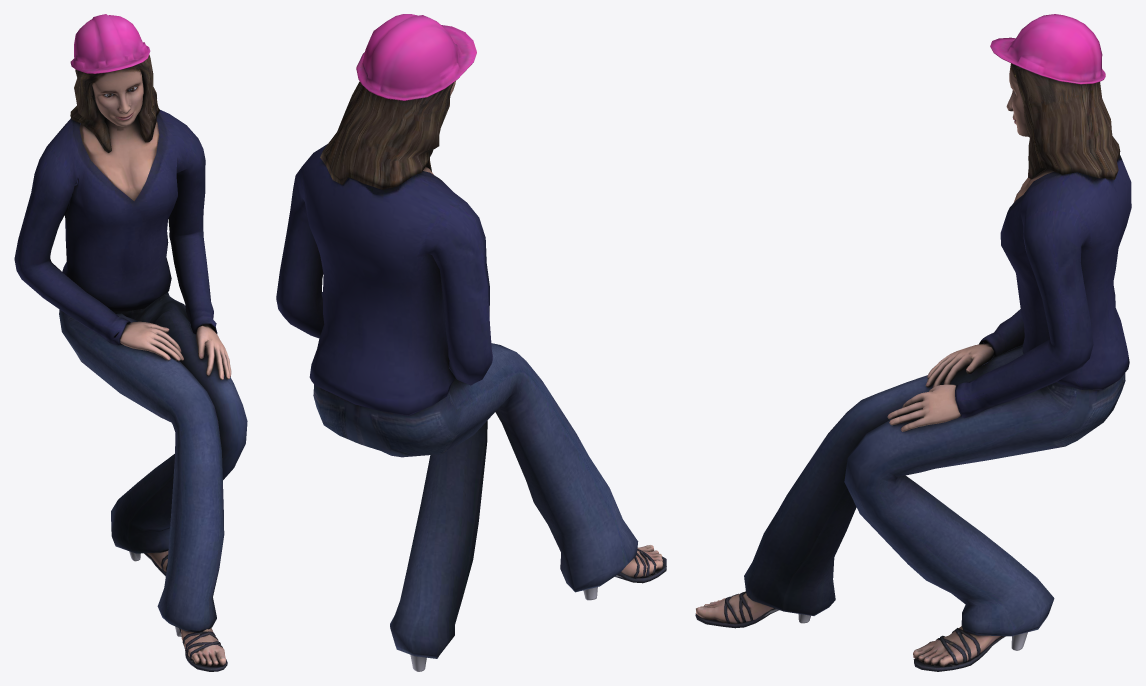
The model's file is SWRK01_08_02.FBX.
3 renders of one model, left to right at view 1: azimuth 30°, elevation 25°; view 2: azimuth 150°, elevation 25°; view 3: azimuth 270°, elevation 25°, orthographic. The views are drawn at different scales.
Visible parts, largest first — view 1: SWRK01_08_02; view 2: SWRK01_08_02; view 3: SWRK01_08_02.
Part boxes in pixels (x1=…): SWRK01_08_02: x1=14, y1=14, x2=247, y2=671; SWRK01_08_02: x1=276, y1=14, x2=666, y2=671; SWRK01_08_02: x1=695, y1=14, x2=1131, y2=671.
Size of the model in its own units: 18.09 by 52.68 by 33.33.
1 material, 1 textured.
